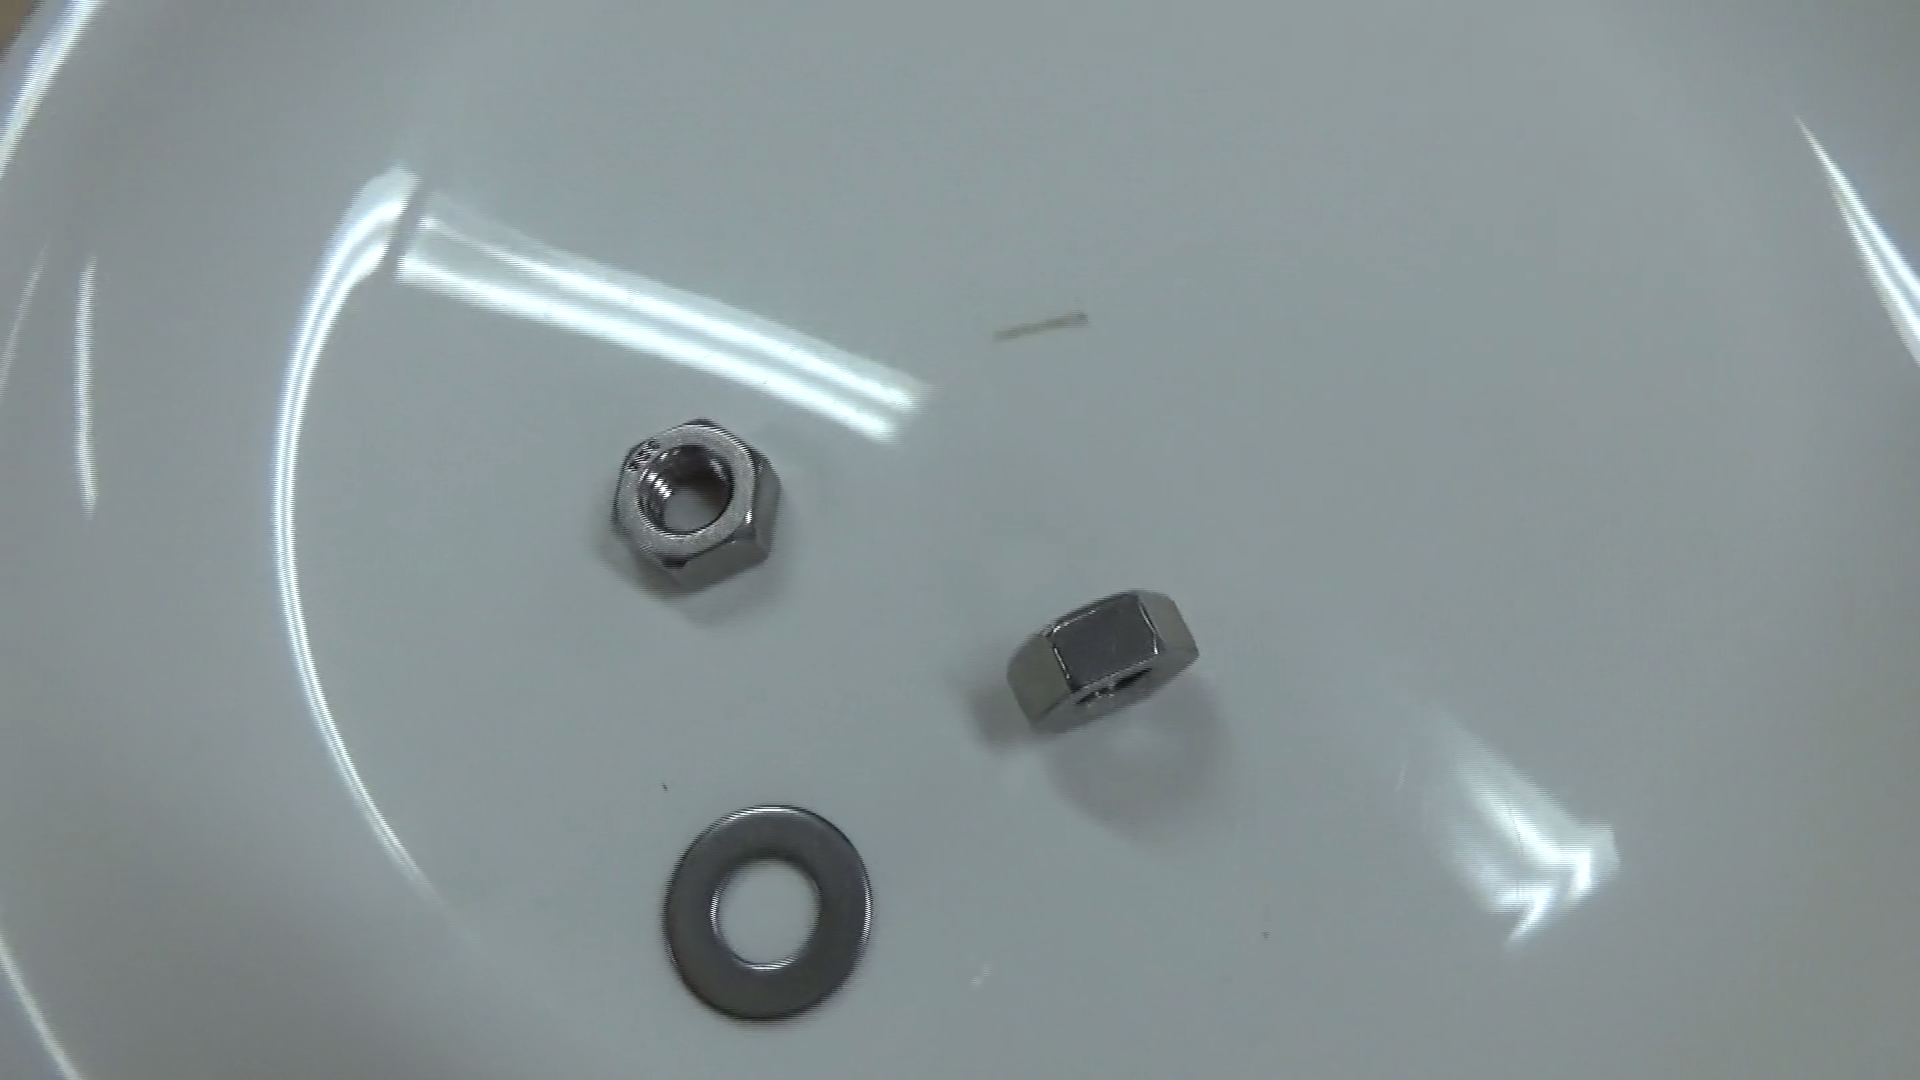nut: (597, 388, 793, 615), (992, 570, 1197, 752)
washer: (644, 786, 885, 1033)
